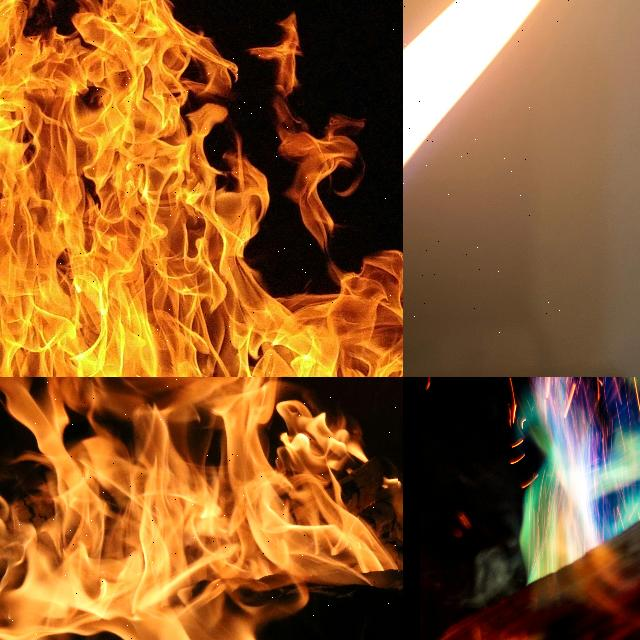fire: (0, 0, 403, 377), (0, 377, 398, 640), (403, 0, 542, 169)
